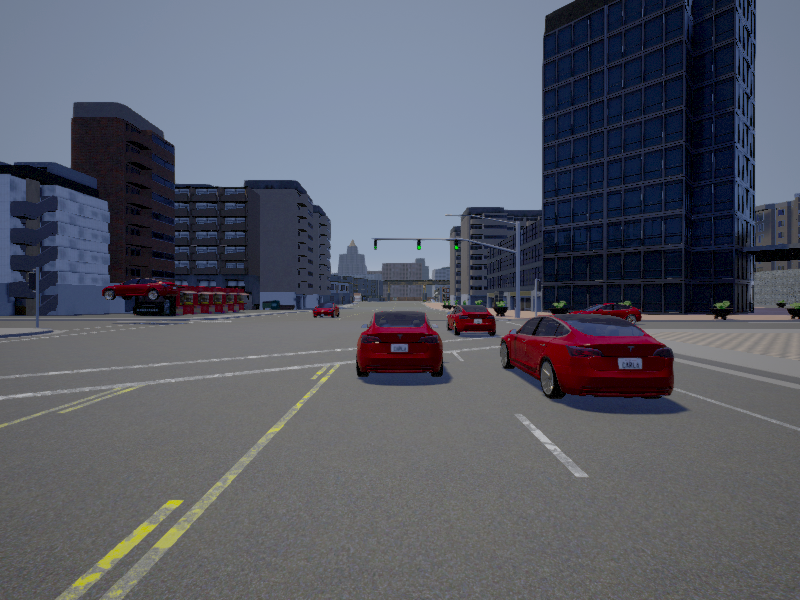Attacker: (103, 278, 176, 299)
Benign: (501, 318, 674, 399), (355, 312, 443, 377), (568, 301, 643, 326), (446, 307, 496, 335), (314, 302, 338, 318)
